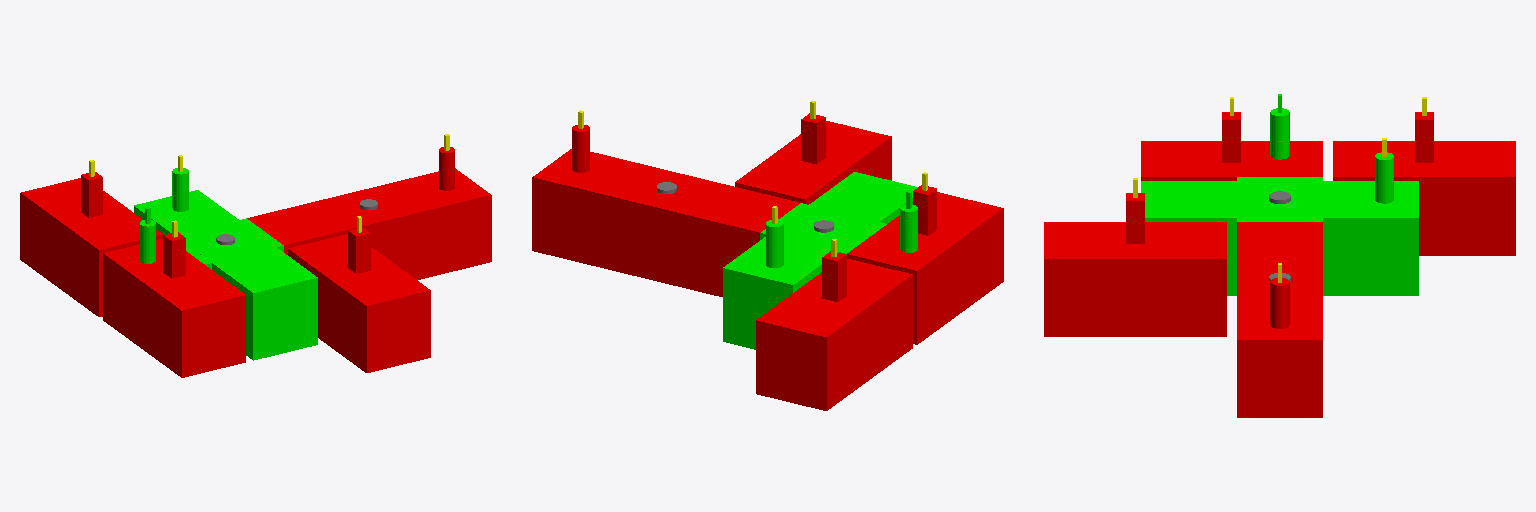
URDF robot description (grid_world2):
<?xml version="1.0"?>
<!-- created with Phobos 1.0.1 "Capricious Choutengan" -->
  <robot name="grid_world2">

    <link name="base_link">
    </link>

    <link name="goal">
      <visual name="visual_box_0_link_0.001">
        <origin xyz="0 0 0" rpy="0 0 0"/>
        <geometry>
          <box size="2.8961 0.8981 0.8981"/>
        </geometry>
        <material name="green_translucent"/>
      </visual>
    </link>

    <link name="link_0_joint_0">
      <visual name="visual_box_0_link_0">
        <origin xyz="0 0 0" rpy="0 0 0"/>
        <geometry>
          <box size="2.899 0.899 0.899"/>
        </geometry>
        <material name="green"/>
      </visual>
      <collision name="collision_box_0_link_0">
        <origin xyz="0 0 0" rpy="0 0 0"/>
        <geometry>
          <box size="2.899 0.899 0.899"/>
        </geometry>
      </collision>
    </link>

    <link name="link_1_joint_0">
      <visual name="visual_box_4_link_1">
        <origin xyz="0 0 0" rpy="0 0 0"/>
        <geometry>
          <box size="2.899 0.899 0.899"/>
        </geometry>
        <material name="red"/>
      </visual>
      <collision name="collision_box_4_link_1">
        <origin xyz="0 0 0" rpy="0 0 0"/>
        <geometry>
          <box size="2.899 0.899 0.899"/>
        </geometry>
      </collision>
    </link>

    <link name="link_2_joint_0">
      <visual name="visual_box_8_link_2">
        <origin xyz="0 0 0" rpy="0 0 0"/>
        <geometry>
          <box size="1.899 0.899 0.899"/>
        </geometry>
        <material name="red"/>
      </visual>
      <collision name="collision_box_8_link_2">
        <origin xyz="0 0 0" rpy="0 0 0"/>
        <geometry>
          <box size="1.899 0.899 0.899"/>
        </geometry>
      </collision>
    </link>

    <link name="link_3_joint_0">
      <visual name="visual_box_11_link_3">
        <origin xyz="0 0 0" rpy="0 0 0"/>
        <geometry>
          <box size="1.899 0.899 0.899"/>
        </geometry>
        <material name="red"/>
      </visual>
      <collision name="collision_box_11_link_3">
        <origin xyz="0 0 0" rpy="0 0 0"/>
        <geometry>
          <box size="1.899 0.899 0.899"/>
        </geometry>
      </collision>
    </link>

    <link name="link_4_joint_0">
      <visual name="visual_box_14_link_4">
        <origin xyz="0 0 0" rpy="0 0 0"/>
        <geometry>
          <box size="1.899 0.899 0.899"/>
        </geometry>
        <material name="red"/>
      </visual>
      <collision name="collision_box_14_link_4">
        <origin xyz="0 0 0" rpy="0 0 0"/>
        <geometry>
          <box size="1.899 0.899 0.899"/>
        </geometry>
      </collision>
    </link>

    <link name="link_fixed_10_handle_knob">
      <visual name="visual_box_fixed_10_handle_knob">
        <origin xyz="0 0 0" rpy="0 0 0"/>
        <geometry>
          <box size="0.049 0.049 0.199"/>
        </geometry>
        <material name="yellow"/>
      </visual>
      <collision name="collision_box_fixed_10_handle_knob">
        <origin xyz="0 0 0" rpy="0 0 0"/>
        <geometry>
          <box size="0.049 0.049 0.199"/>
        </geometry>
      </collision>
    </link>

    <link name="link_fixed_12_handle_shaft">
      <visual name="visual_box_fixed_12_handle_shaft">
        <origin xyz="0 0 0" rpy="0 0 0"/>
        <geometry>
          <box size="0.199 0.199 0.499"/>
        </geometry>
        <material name="red"/>
      </visual>
      <collision name="collision_box_fixed_12_handle_shaft">
        <origin xyz="0 0 0" rpy="0 0 0"/>
        <geometry>
          <box size="0.199 0.199 0.499"/>
        </geometry>
      </collision>
    </link>

    <link name="link_fixed_13_handle_knob">
      <visual name="visual_box_fixed_13_handle_knob">
        <origin xyz="0 0 0" rpy="0 0 0"/>
        <geometry>
          <box size="0.049 0.049 0.199"/>
        </geometry>
        <material name="yellow"/>
      </visual>
      <collision name="collision_box_fixed_13_handle_knob">
        <origin xyz="0 0 0" rpy="0 0 0"/>
        <geometry>
          <box size="0.049 0.049 0.199"/>
        </geometry>
      </collision>
    </link>

    <link name="link_fixed_15_handle_shaft">
      <visual name="visual_box_fixed_15_handle_shaft">
        <origin xyz="0 0 0" rpy="0 0 0"/>
        <geometry>
          <box size="0.199 0.199 0.499"/>
        </geometry>
        <material name="red"/>
      </visual>
      <collision name="collision_box_fixed_15_handle_shaft">
        <origin xyz="0 0 0" rpy="0 0 0"/>
        <geometry>
          <box size="0.199 0.199 0.499"/>
        </geometry>
      </collision>
    </link>

    <link name="link_fixed_16_handle_knob">
      <visual name="visual_box_fixed_16_handle_knob">
        <origin xyz="0 0 0" rpy="0 0 0"/>
        <geometry>
          <box size="0.049 0.049 0.199"/>
        </geometry>
        <material name="yellow"/>
      </visual>
      <collision name="collision_box_fixed_16_handle_knob">
        <origin xyz="0 0 0" rpy="0 0 0"/>
        <geometry>
          <box size="0.049 0.049 0.199"/>
        </geometry>
      </collision>
    </link>

    <link name="link_fixed_1_hinge">
      <visual name="visual_cylinder_fixed_1_hinge">
        <origin xyz="0 0 0" rpy="0 0 0"/>
        <geometry>
          <cylinder radius="0.112" length="0.989"/>
        </geometry>
        <material name="gray"/>
      </visual>
    </link>

    <link name="link_fixed_1_hinge.001">
      <visual name="visual_cylinder_fixed_1_hinge.001">
        <origin xyz="0 0 0" rpy="0 0 0"/>
        <geometry>
          <cylinder radius="0.11189" length="0.98801"/>
        </geometry>
        <material name="green_translucent"/>
      </visual>
    </link>

    <link name="link_fixed_2_handle_shaft">
      <visual name="visual_cylinder_fixed_2_handle_shaft">
        <origin xyz="0 0 0" rpy="0 0 0"/>
        <geometry>
          <cylinder radius="0.0995" length="0.499"/>
        </geometry>
        <material name="green"/>
      </visual>
      <collision name="collision_cylinder_fixed_2_handle_shaft">
        <origin xyz="0 0 0" rpy="0 0 0"/>
        <geometry>
          <cylinder radius="0.0995" length="0.499"/>
        </geometry>
      </collision>
    </link>

    <link name="link_fixed_2_handle_shaft.001">
      <visual name="visual_cylinder_fixed_2_handle_shaft.001">
        <origin xyz="0 0 0" rpy="0 0 0"/>
        <geometry>
          <cylinder radius="0.0994" length="0.4985"/>
        </geometry>
        <material name="green_translucent"/>
      </visual>
    </link>

    <link name="link_fixed_3_handle_knob">
      <visual name="visual_box_fixed_3_handle_knob">
        <origin xyz="0 0 0" rpy="0 0 0"/>
        <geometry>
          <box size="0.049 0.049 0.199"/>
        </geometry>
        <material name="yellow"/>
      </visual>
      <collision name="collision_box_fixed_3_handle_knob">
        <origin xyz="0 0 0" rpy="0 0 0"/>
        <geometry>
          <box size="0.049 0.049 0.199"/>
        </geometry>
      </collision>
    </link>

    <link name="link_fixed_3_handle_knob.001">
      <visual name="visual_box_fixed_3_handle_knob.001">
        <origin xyz="0 0 0" rpy="0 0 0"/>
        <geometry>
          <box size="0.04895 0.04895 0.1988"/>
        </geometry>
        <material name="green_translucent"/>
      </visual>
    </link>

    <link name="link_fixed_5_hinge">
      <visual name="visual_cylinder_fixed_5_hinge">
        <origin xyz="0 0 0" rpy="0 0 0"/>
        <geometry>
          <cylinder radius="0.112" length="0.989"/>
        </geometry>
        <material name="gray"/>
      </visual>
    </link>

    <link name="link_fixed_6_handle_shaft">
      <visual name="visual_cylinder_fixed_6_handle_shaft">
        <origin xyz="0 0 0" rpy="0 0 0"/>
        <geometry>
          <cylinder radius="0.0995" length="0.499"/>
        </geometry>
        <material name="red"/>
      </visual>
      <collision name="collision_cylinder_fixed_6_handle_shaft">
        <origin xyz="0 0 0" rpy="0 0 0"/>
        <geometry>
          <cylinder radius="0.0995" length="0.499"/>
        </geometry>
      </collision>
    </link>

    <link name="link_fixed_7_handle_knob">
      <visual name="visual_box_fixed_7_handle_knob">
        <origin xyz="0 0 0" rpy="0 0 0"/>
        <geometry>
          <box size="0.049 0.049 0.199"/>
        </geometry>
        <material name="yellow"/>
      </visual>
      <collision name="collision_box_fixed_7_handle_knob">
        <origin xyz="0 0 0" rpy="0 0 0"/>
        <geometry>
          <box size="0.049 0.049 0.199"/>
        </geometry>
      </collision>
    </link>

    <link name="link_fixed_9_handle_shaft">
      <visual name="visual_box_fixed_9_handle_shaft">
        <origin xyz="0 0 0" rpy="0 0 0"/>
        <geometry>
          <box size="0.199 0.199 0.499"/>
        </geometry>
        <material name="red"/>
      </visual>
      <collision name="collision_box_fixed_9_handle_shaft">
        <origin xyz="0 0 0" rpy="0 0 0"/>
        <geometry>
          <box size="0.199 0.199 0.499"/>
        </geometry>
      </collision>
    </link>

    <joint name="goal" type="fixed">
      <origin xyz="0.5 1.5 0.45" rpy="0 0 -3.14159"/>
      <parent link="base_link"/>
      <child link="goal"/>
      <limit effort="0" velocity="0"/>
    </joint>

    <joint name="link_0_joint_0" type="revolute">
      <origin xyz="0.5 1.5 0.45" rpy="0 0 1.5708"/>
      <parent link="base_link"/>
      <child link="link_0_joint_0"/>
      <axis xyz="0 0 1.0"/>
      <limit lower="0" upper="1.5708" effort="0" velocity="0"/>
    </joint>

    <joint name="link_1_joint_0" type="revolute">
      <origin xyz="2.5 1.5 0.45" rpy="0 0 0"/>
      <parent link="base_link"/>
      <child link="link_1_joint_0"/>
      <axis xyz="0 0 1.0"/>
      <limit lower="-1.5708" upper="0" effort="0" velocity="0"/>
    </joint>

    <joint name="link_2_joint_0" type="prismatic">
      <origin xyz="-0.5 3.0 0.45" rpy="0 0 1.5708"/>
      <parent link="base_link"/>
      <child link="link_2_joint_0"/>
      <axis xyz="1.0 0 0"/>
      <limit lower="0" upper="1.0" effort="0" velocity="0"/>
    </joint>

    <joint name="link_3_joint_0" type="prismatic">
      <origin xyz="-0.5 1.0 0.45" rpy="0 0 -1.5708"/>
      <parent link="base_link"/>
      <child link="link_3_joint_0"/>
      <axis xyz="1.0 0 0"/>
      <limit lower="0" upper="1.0" effort="0" velocity="0"/>
    </joint>

    <joint name="link_4_joint_0" type="prismatic">
      <origin xyz="1.5 0 0.45" rpy="0 0 -1.5708"/>
      <parent link="base_link"/>
      <child link="link_4_joint_0"/>
      <axis xyz="1.0 0 0"/>
      <limit lower="0" upper="1.0" effort="0" velocity="0"/>
    </joint>

    <joint name="link_fixed_10_handle_knob" type="fixed">
      <origin xyz="0 0 0.35" rpy="0 0 0"/>
      <parent link="link_fixed_9_handle_shaft"/>
      <child link="link_fixed_10_handle_knob"/>
    </joint>

    <joint name="link_fixed_12_handle_shaft" type="fixed">
      <origin xyz="0 0 0.7" rpy="0 0 0"/>
      <parent link="link_3_joint_0"/>
      <child link="link_fixed_12_handle_shaft"/>
    </joint>

    <joint name="link_fixed_13_handle_knob" type="fixed">
      <origin xyz="0 0 0.35" rpy="0 0 0"/>
      <parent link="link_fixed_12_handle_shaft"/>
      <child link="link_fixed_13_handle_knob"/>
    </joint>

    <joint name="link_fixed_15_handle_shaft" type="fixed">
      <origin xyz="0 0 0.7" rpy="0 0 0"/>
      <parent link="link_4_joint_0"/>
      <child link="link_fixed_15_handle_shaft"/>
    </joint>

    <joint name="link_fixed_16_handle_knob" type="fixed">
      <origin xyz="0 0 0.35" rpy="0 0 0"/>
      <parent link="link_fixed_15_handle_shaft"/>
      <child link="link_fixed_16_handle_knob"/>
    </joint>

    <joint name="link_fixed_1_hinge" type="fixed">
      <origin xyz="0 0 0" rpy="0 0 0"/>
      <parent link="link_0_joint_0"/>
      <child link="link_fixed_1_hinge"/>
    </joint>

    <joint name="link_fixed_1_hinge.001" type="fixed">
      <origin xyz="0 0 0" rpy="0 0 0"/>
      <parent link="goal"/>
      <child link="link_fixed_1_hinge.001"/>
    </joint>

    <joint name="link_fixed_2_handle_shaft" type="fixed">
      <origin xyz="1.0875 0 0.7" rpy="0 0 0"/>
      <parent link="link_0_joint_0"/>
      <child link="link_fixed_2_handle_shaft"/>
    </joint>

    <joint name="link_fixed_2_handle_shaft.001" type="fixed">
      <origin xyz="1.08641 0 0.6993" rpy="0 0 0"/>
      <parent link="goal"/>
      <child link="link_fixed_2_handle_shaft.001"/>
    </joint>

    <joint name="link_fixed_3_handle_knob" type="fixed">
      <origin xyz="0 0 0.35" rpy="0 0 0"/>
      <parent link="link_fixed_2_handle_shaft"/>
      <child link="link_fixed_3_handle_knob"/>
    </joint>

    <joint name="link_fixed_3_handle_knob.001" type="fixed">
      <origin xyz="0 0 0.34965" rpy="0 0 0"/>
      <parent link="link_fixed_2_handle_shaft.001"/>
      <child link="link_fixed_3_handle_knob.001"/>
    </joint>

    <joint name="link_fixed_5_hinge" type="fixed">
      <origin xyz="0 0 0" rpy="0 0 0"/>
      <parent link="link_1_joint_0"/>
      <child link="link_fixed_5_hinge"/>
    </joint>

    <joint name="link_fixed_6_handle_shaft" type="fixed">
      <origin xyz="1.0875 0 0.7" rpy="0 0 0"/>
      <parent link="link_1_joint_0"/>
      <child link="link_fixed_6_handle_shaft"/>
    </joint>

    <joint name="link_fixed_7_handle_knob" type="fixed">
      <origin xyz="0 0 0.35" rpy="0 0 0"/>
      <parent link="link_fixed_6_handle_shaft"/>
      <child link="link_fixed_7_handle_knob"/>
    </joint>

    <joint name="link_fixed_9_handle_shaft" type="fixed">
      <origin xyz="0 0 0.7" rpy="0 0 0"/>
      <parent link="link_2_joint_0"/>
      <child link="link_fixed_9_handle_shaft"/>
    </joint>

    <material name="gray">
      <color rgba="0.5 0.5 0.5 1.0"/>
    </material>

    <material name="green">
      <color rgba="0 1.0 0 1.0"/>
    </material>

    <material name="green_translucent">
      <color rgba="0 1.0 0 0.25"/>
    </material>

    <material name="red">
      <color rgba="1.0 0 0 1.0"/>
    </material>

    <material name="yellow">
      <color rgba="1.0 1.0 0 1.0"/>
    </material>

  </robot>

--- Render facts (derived) ---
The picture shows the robot from 3 angles, left to right: view 1: azimuth 30°, elevation 25°; view 2: azimuth 150°, elevation 25°; view 3: azimuth 270°, elevation 25°; orthographic projection.
Model grid_world2 with 22 links and 21 joints (2 revolute, 3 prismatic, 16 fixed), rooted at base_link, posed every joint at zero.
Links seen in each view (by area): view 1: link_1_joint_0, link_3_joint_0, link_0_joint_0, link_4_joint_0, link_2_joint_0, link_fixed_15_handle_shaft, link_fixed_12_handle_shaft, link_fixed_9_handle_shaft, link_fixed_2_handle_shaft, link_fixed_6_handle_shaft, link_fixed_2_handle_shaft.001; view 2: link_1_joint_0, link_2_joint_0, link_0_joint_0, link_3_joint_0, link_4_joint_0, link_fixed_15_handle_shaft, link_fixed_9_handle_shaft, link_fixed_12_handle_shaft, link_fixed_2_handle_shaft.001, link_fixed_6_handle_shaft, link_fixed_2_handle_shaft, goal; view 3: link_4_joint_0, link_0_joint_0, link_1_joint_0, link_2_joint_0, link_3_joint_0, link_fixed_2_handle_shaft.001, link_fixed_6_handle_shaft, link_fixed_12_handle_shaft, link_fixed_9_handle_shaft, link_fixed_15_handle_shaft, link_fixed_2_handle_shaft, goal.
Boxes of the visible links, <box> form: link_1_joint_0: <box>247,168,491,279</box>; link_3_joint_0: <box>103,239,245,377</box>; link_0_joint_0: <box>134,190,317,360</box>; link_4_joint_0: <box>288,234,430,372</box>; link_2_joint_0: <box>20,178,162,316</box>; link_fixed_15_handle_shaft: <box>348,227,370,273</box>; link_fixed_12_handle_shaft: <box>163,232,185,278</box>; link_fixed_9_handle_shaft: <box>81,172,102,217</box>; link_fixed_2_handle_shaft: <box>172,168,188,211</box>; link_fixed_6_handle_shaft: <box>439,147,454,190</box>; link_fixed_2_handle_shaft.001: <box>140,220,155,263</box>; link_1_joint_0: <box>532,149,799,296</box>; link_2_joint_0: <box>756,259,912,410</box>; link_0_joint_0: <box>723,172,917,349</box>; link_3_joint_0: <box>847,192,1003,344</box>; link_4_joint_0: <box>735,121,891,204</box>; link_fixed_15_handle_shaft: <box>801,113,825,164</box>; link_fixed_9_handle_shaft: <box>822,251,846,301</box>; link_fixed_12_handle_shaft: <box>913,185,936,235</box>; link_fixed_2_handle_shaft.001: <box>900,205,917,252</box>; link_fixed_6_handle_shaft: <box>572,125,589,172</box>; link_fixed_2_handle_shaft: <box>766,220,783,267</box>; goal: <box>760,203,886,254</box>; link_4_joint_0: <box>1044,222,1226,336</box>; link_0_joint_0: <box>1141,181,1418,295</box>; link_1_joint_0: <box>1237,222,1322,417</box>; link_2_joint_0: <box>1333,141,1515,255</box>; link_3_joint_0: <box>1141,141,1322,180</box>; link_fixed_2_handle_shaft.001: <box>1270,108,1289,159</box>; link_fixed_6_handle_shaft: <box>1270,278,1289,328</box>; link_fixed_12_handle_shaft: <box>1222,112,1240,162</box>; link_fixed_9_handle_shaft: <box>1415,112,1433,162</box>; link_fixed_15_handle_shaft: <box>1126,193,1144,243</box>; link_fixed_2_handle_shaft: <box>1375,152,1393,203</box>; goal: <box>1237,177,1322,221</box>.
Size in the robot's own frame: 4.9 by 4.9 by 1.64 metres.
Geometry: primitives only (box / cylinder / sphere), no mesh files.